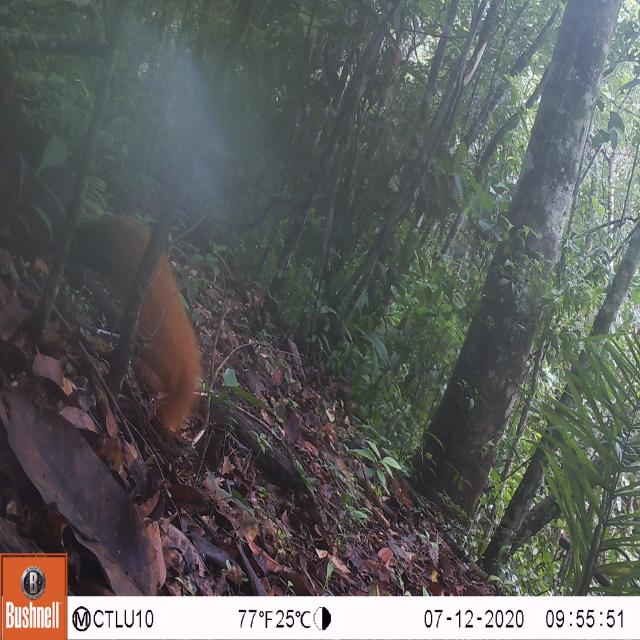Squirrel: (70, 209, 204, 435)
